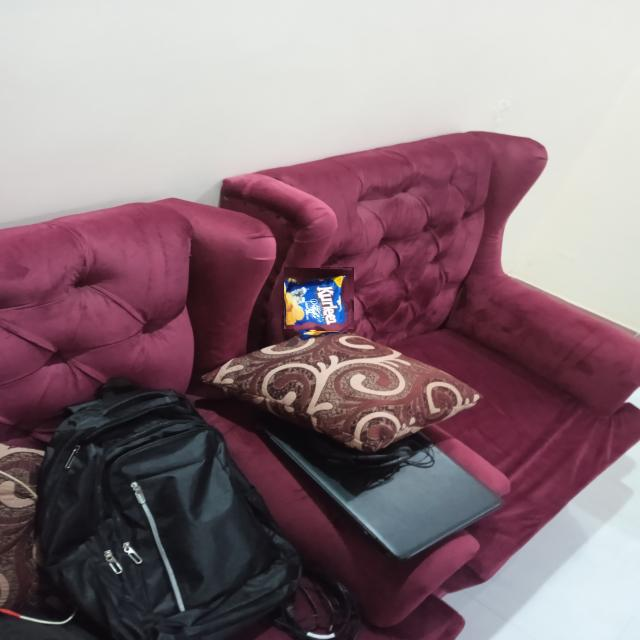Plastic: (286, 265, 352, 332)
